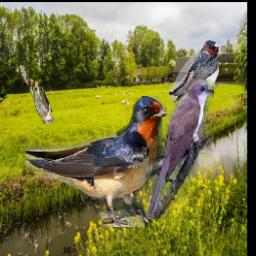Cuckoo: (146, 81, 214, 220), (19, 64, 54, 124)
Swallow: (26, 97, 168, 228), (170, 39, 220, 103)
